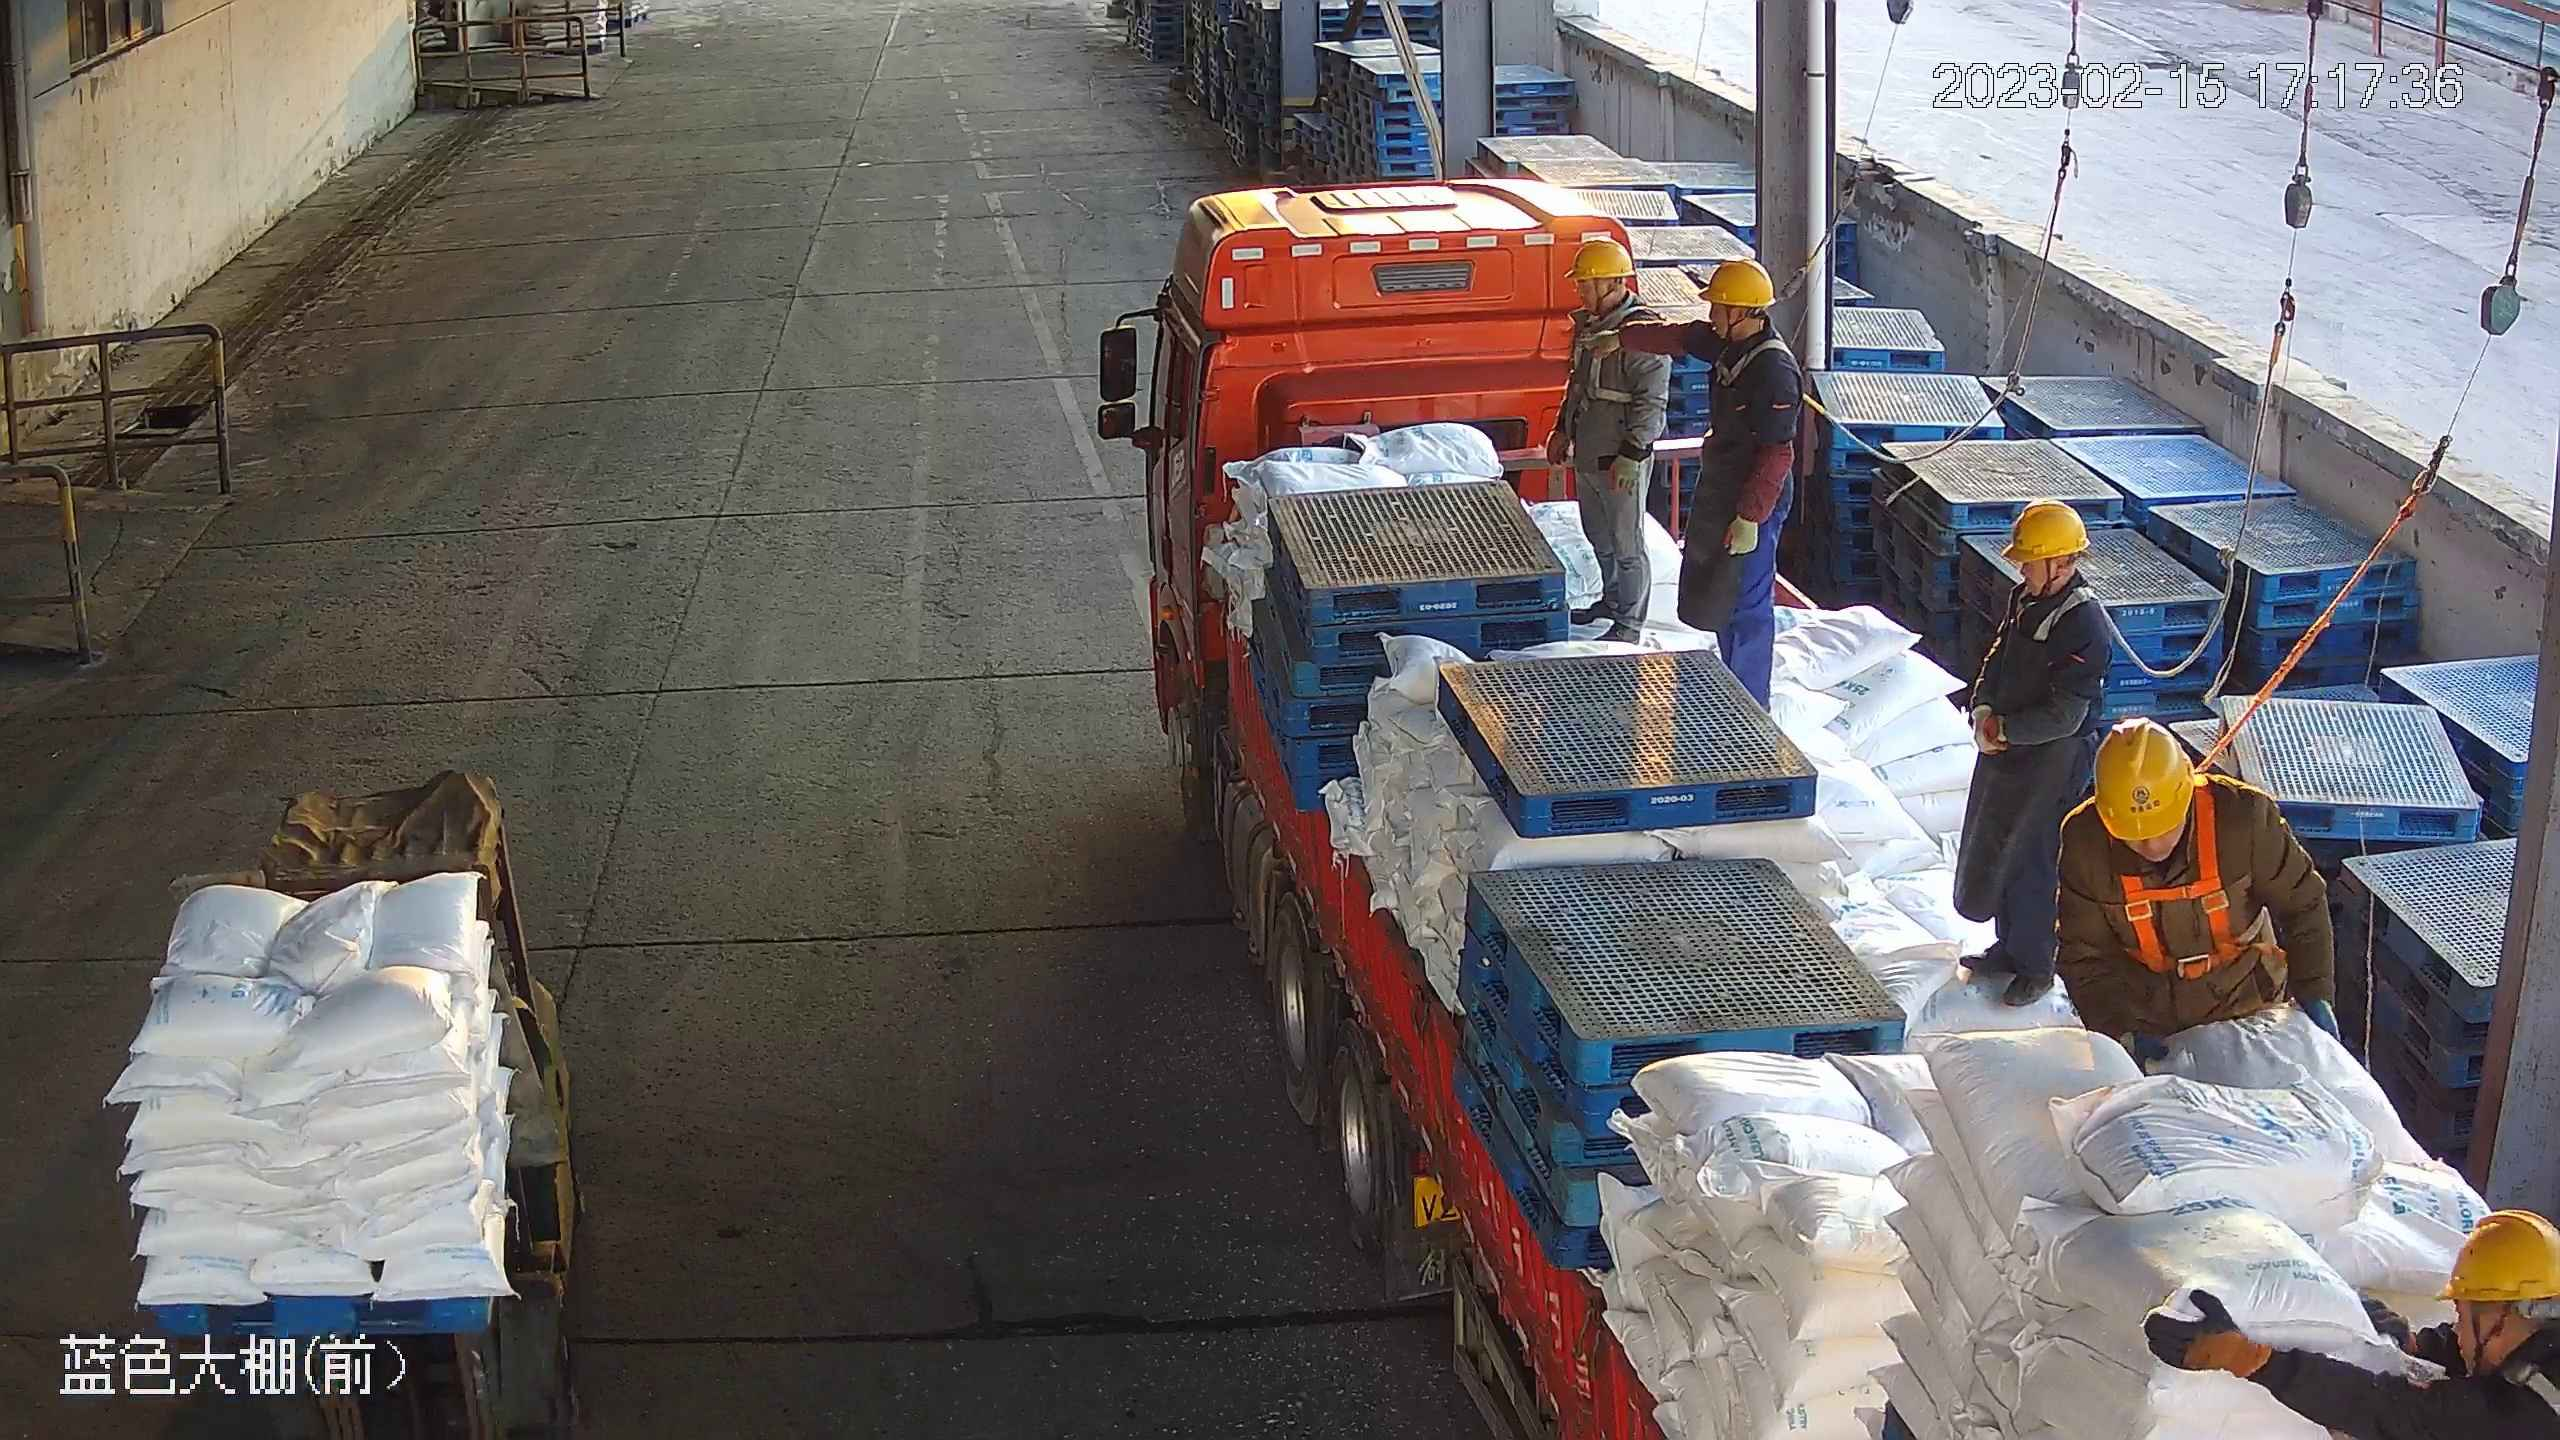belt: (2115, 795, 2249, 975), (1564, 320, 1646, 412), (2014, 586, 2109, 644), (2514, 1353, 2560, 1440), (1712, 338, 1792, 386)
head: (2349, 1195, 2560, 1440), (2064, 707, 2312, 899), (1948, 482, 2112, 671), (1675, 266, 1809, 401), (1562, 240, 1669, 361)
helmet: (2089, 712, 2216, 841), (2438, 1210, 2560, 1318), (2003, 488, 2109, 560), (1712, 262, 1780, 314), (1566, 232, 1636, 282)
people: (1944, 482, 2116, 1021), (1668, 257, 1805, 725), (1555, 238, 1675, 658)
truck: (1094, 177, 2560, 1440)
